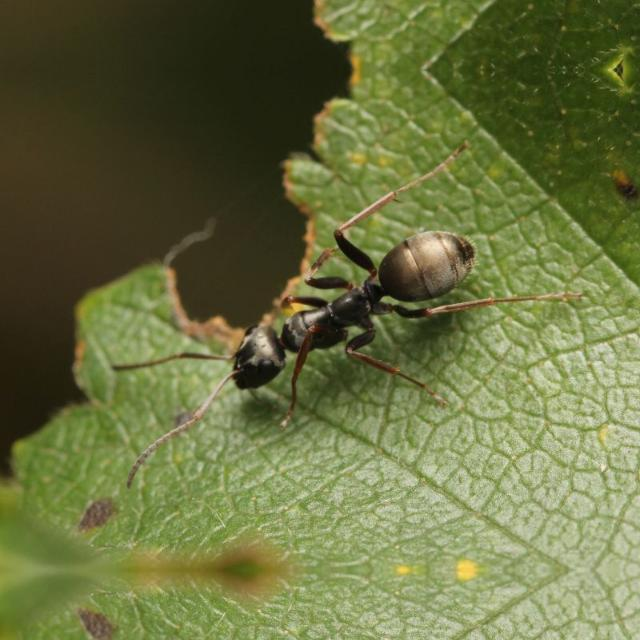Formica: (208, 208, 506, 420)
